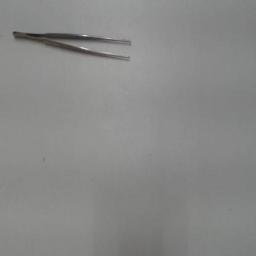Gillies Toothed Dissector: (12, 27, 134, 67)
